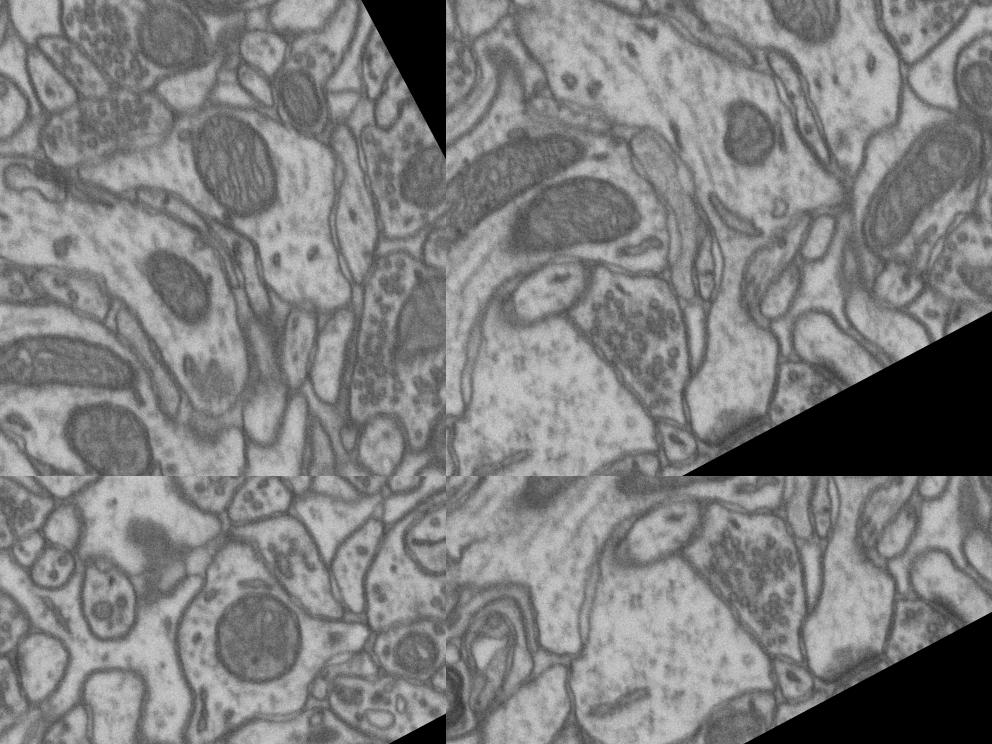mitochondria: (446, 104, 608, 283), (484, 146, 655, 294), (829, 116, 992, 268), (180, 560, 336, 712), (0, 287, 142, 453), (174, 91, 306, 240), (35, 371, 172, 476), (348, 259, 446, 393), (485, 476, 722, 524), (134, 233, 232, 346), (592, 476, 770, 538), (126, 0, 224, 91), (702, 86, 791, 178), (130, 0, 290, 49), (739, 0, 864, 62), (263, 55, 343, 146), (375, 134, 446, 231), (373, 614, 446, 698), (947, 222, 992, 319), (689, 693, 771, 744), (414, 351, 446, 476), (949, 47, 992, 122), (881, 0, 985, 23), (0, 476, 23, 566), (571, 455, 653, 476), (0, 0, 34, 50)
